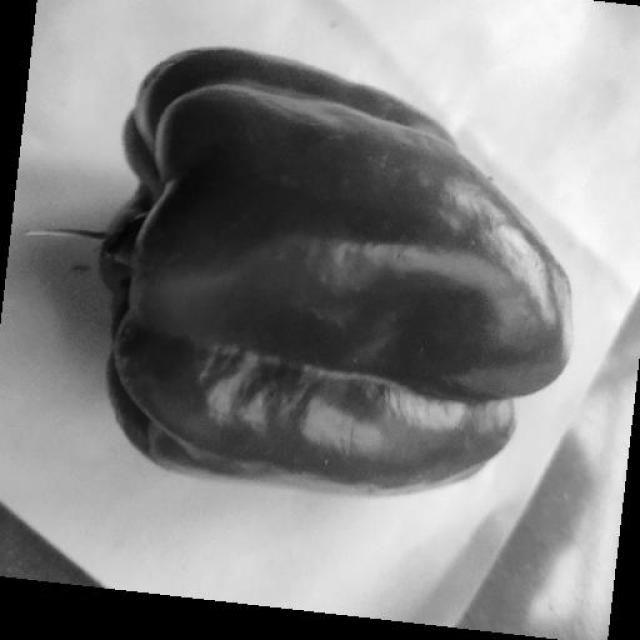Stale_Capsicum: (99, 72, 560, 484)
